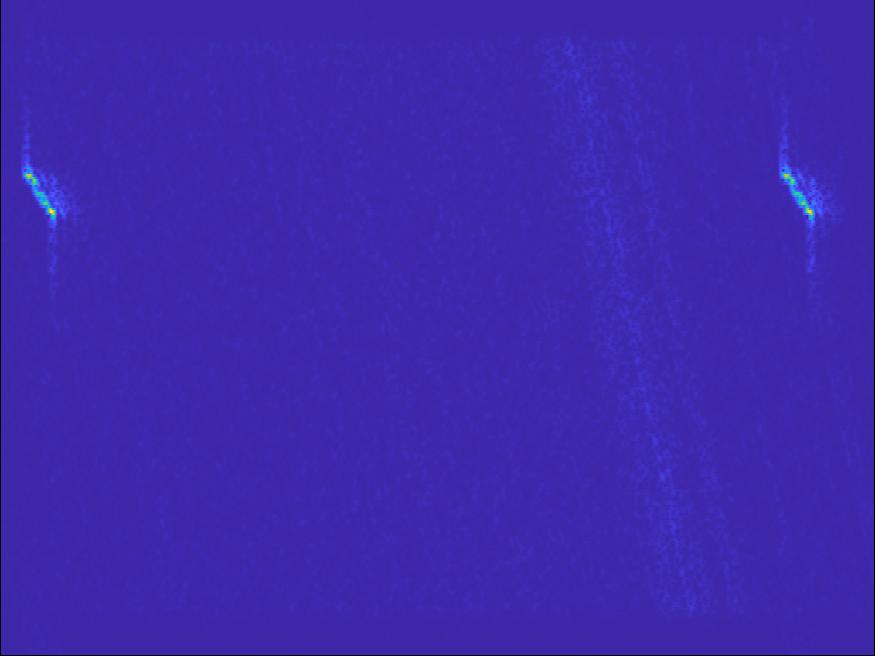Interference: (16, 143, 84, 234), (762, 156, 832, 230)
